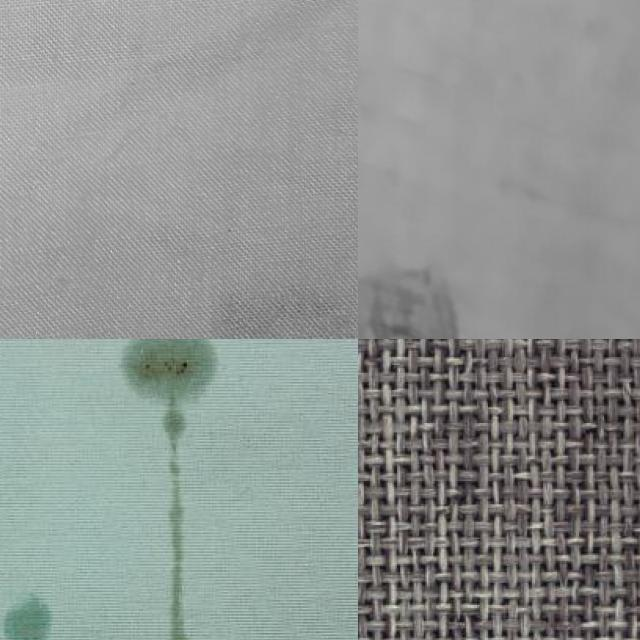Hole: (86, 339, 274, 640), (358, 234, 484, 339)
